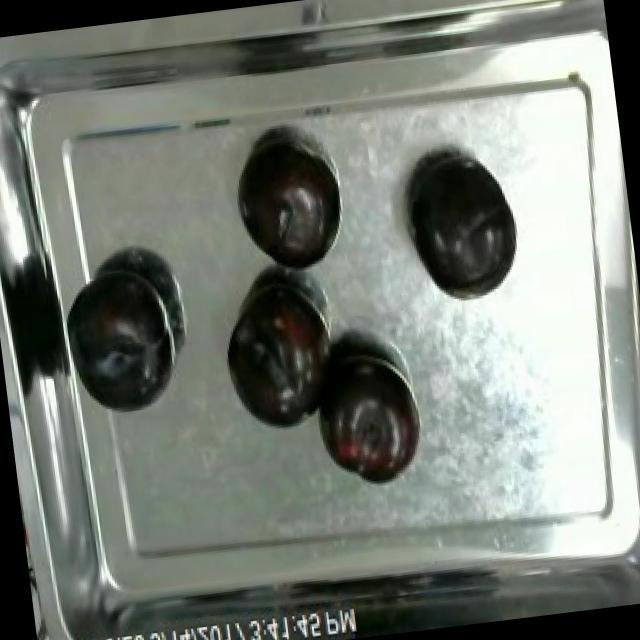Fruit: (56, 256, 186, 428), (213, 272, 347, 438), (397, 146, 528, 304), (304, 344, 428, 494), (226, 136, 344, 280)
